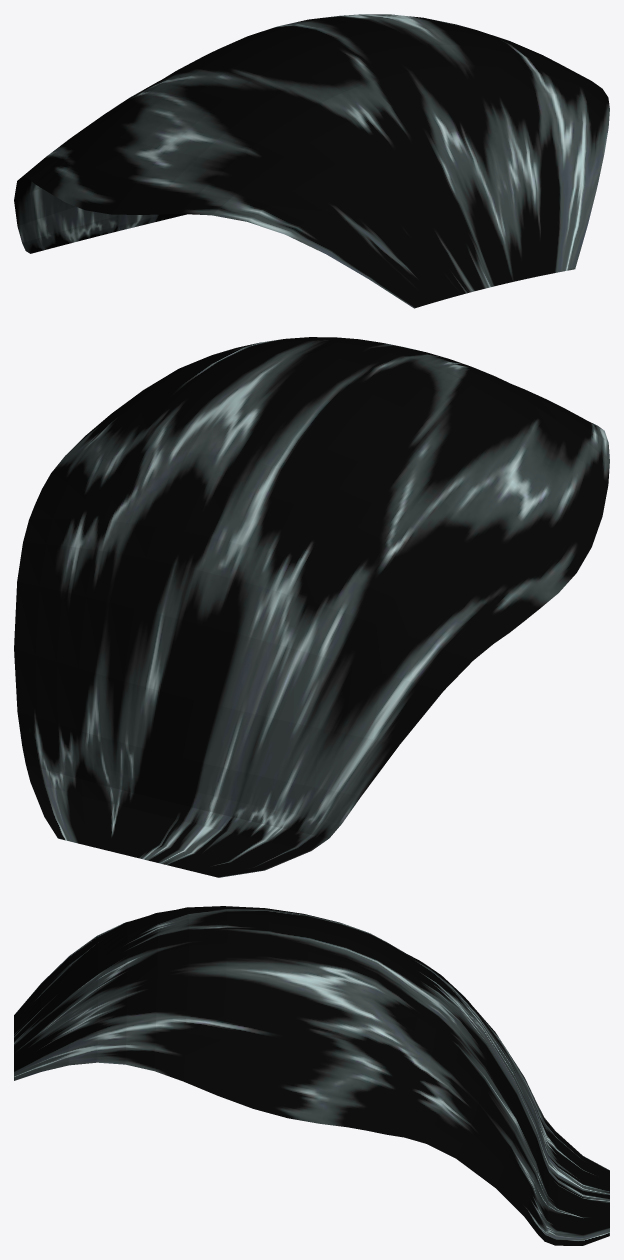
File: 0428_shui06.glb
3 renders of one model, top to bottom at view 1: azimuth 30°, elevation 25°; view 2: azimuth 150°, elevation 25°; view 3: azimuth 270°, elevation 25°, orthographic. The views are drawn at different scales.
Bounding box in the file's own units: 1.76 × 1.11 × 2.2.
Materials: 1 (1 with a texture image).
